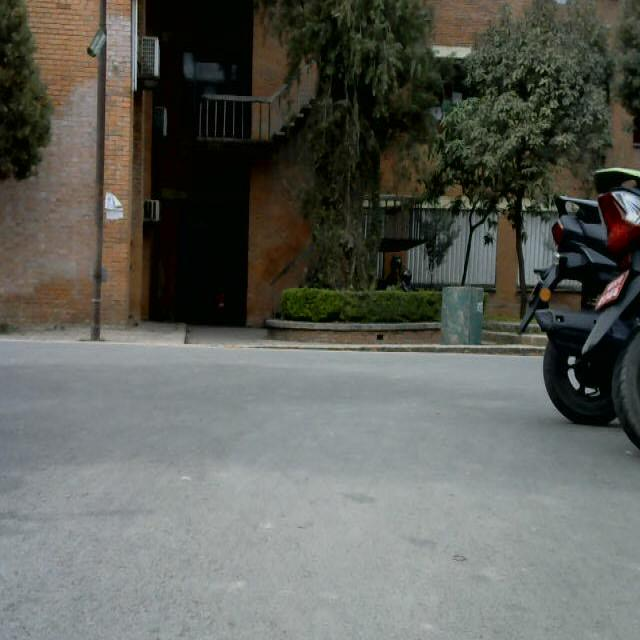Bike: (516, 169, 640, 448)
Pole: (80, 0, 127, 350)
Road: (4, 337, 640, 640)
dustbin: (442, 282, 492, 349)
trees: (262, 0, 403, 315), (444, 5, 624, 191), (3, 5, 63, 188)
